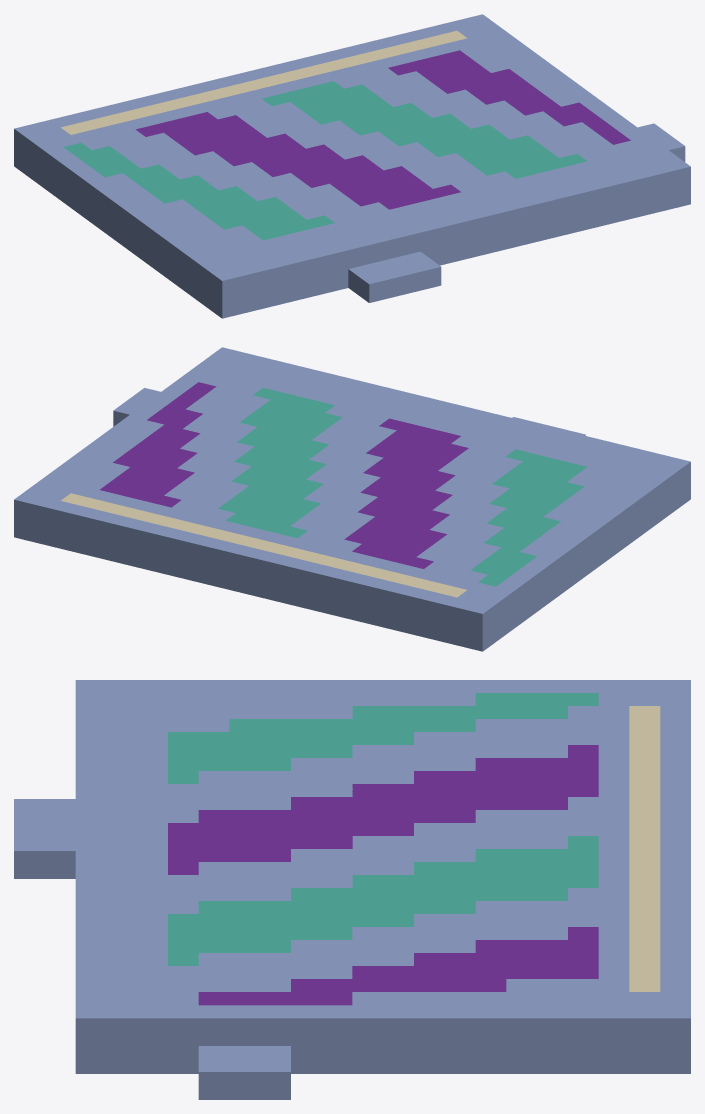
File: iridescent_felt_patch.glb
The picture shows the model from 3 angles, top to bottom: view 1: azimuth 30°, elevation 25°; view 2: azimuth 150°, elevation 25°; view 3: azimuth 270°, elevation 25°; orthographic projection. The views are drawn at different scales.
Visible parts, largest first — view 1: iridescent_felt_patch:compound; view 2: iridescent_felt_patch:compound; view 3: iridescent_felt_patch:compound.
Boxes of the visible parts, <box> form: iridescent_felt_patch:compound: <box>14,14,690,318</box>; iridescent_felt_patch:compound: <box>14,347,690,651</box>; iridescent_felt_patch:compound: <box>14,680,690,1099</box>.
Bounding box in the file's own units: 0.056 × 0.004 × 0.044.
